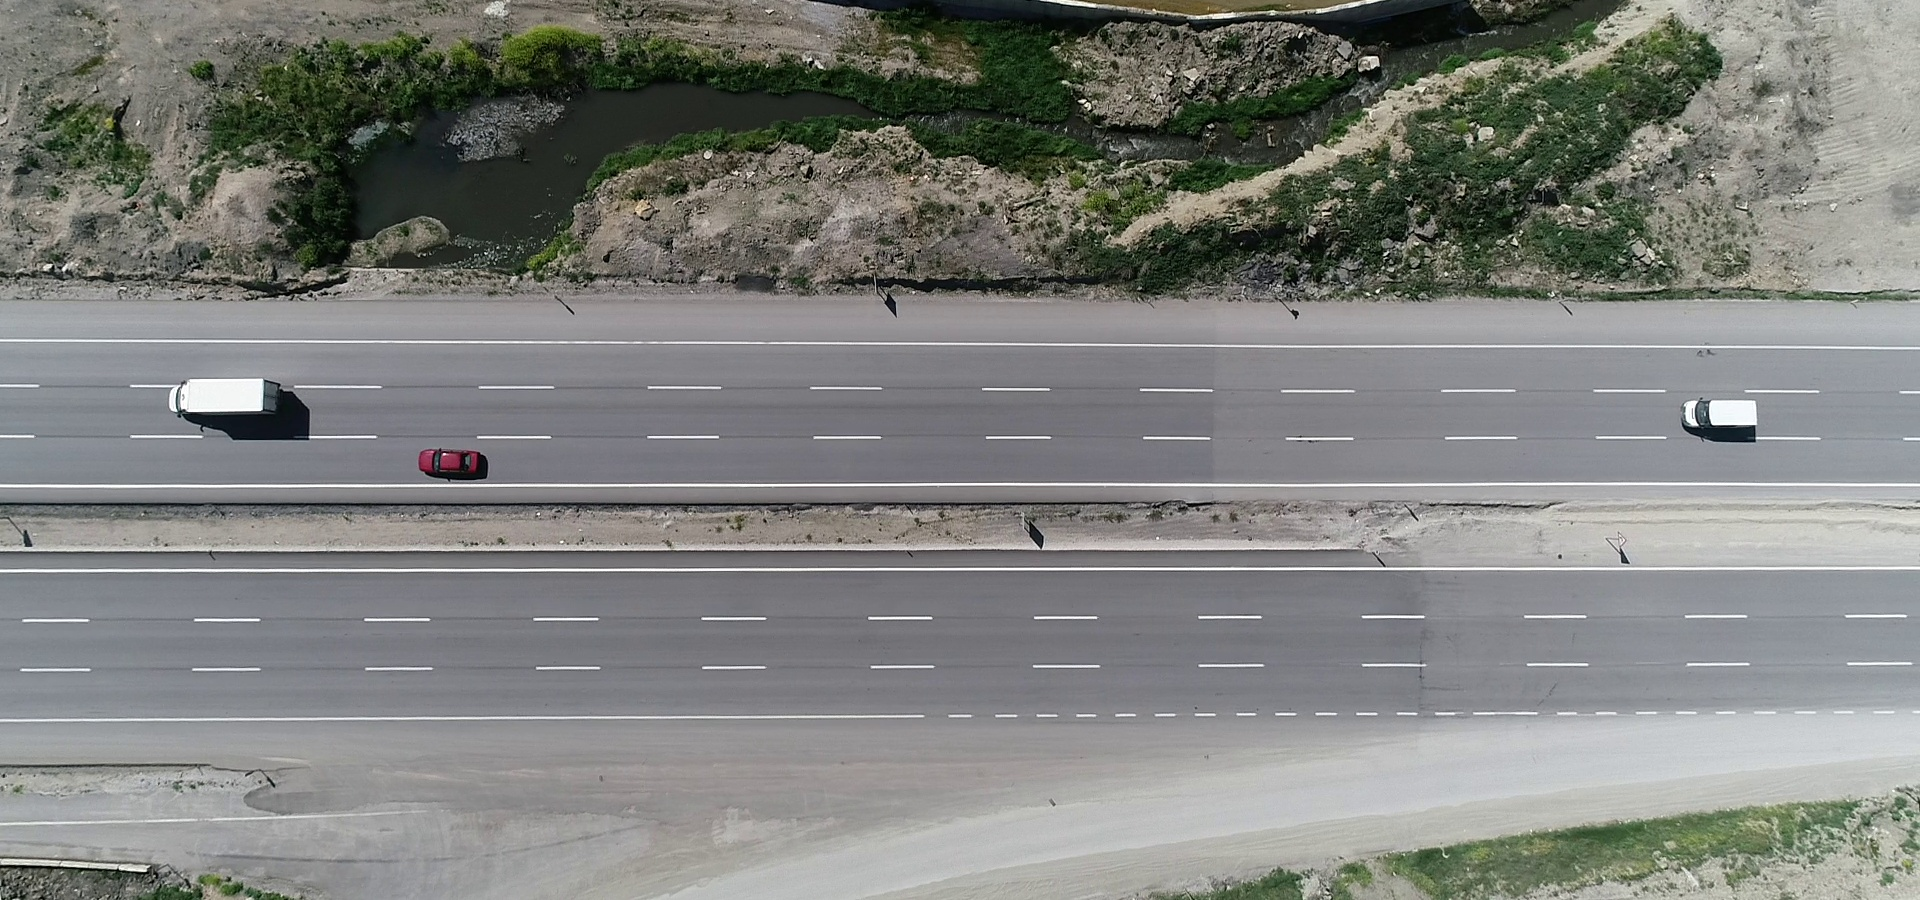arac: (167, 371, 296, 429), (1678, 392, 1769, 435), (416, 444, 498, 485)
